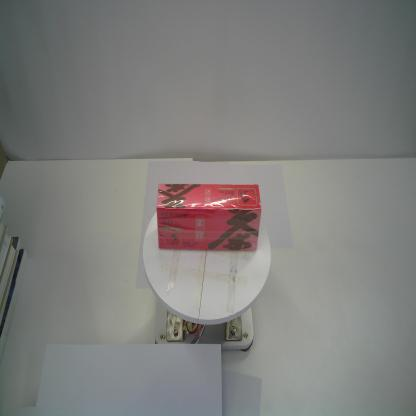Instant Drink: (156, 184, 262, 252)
